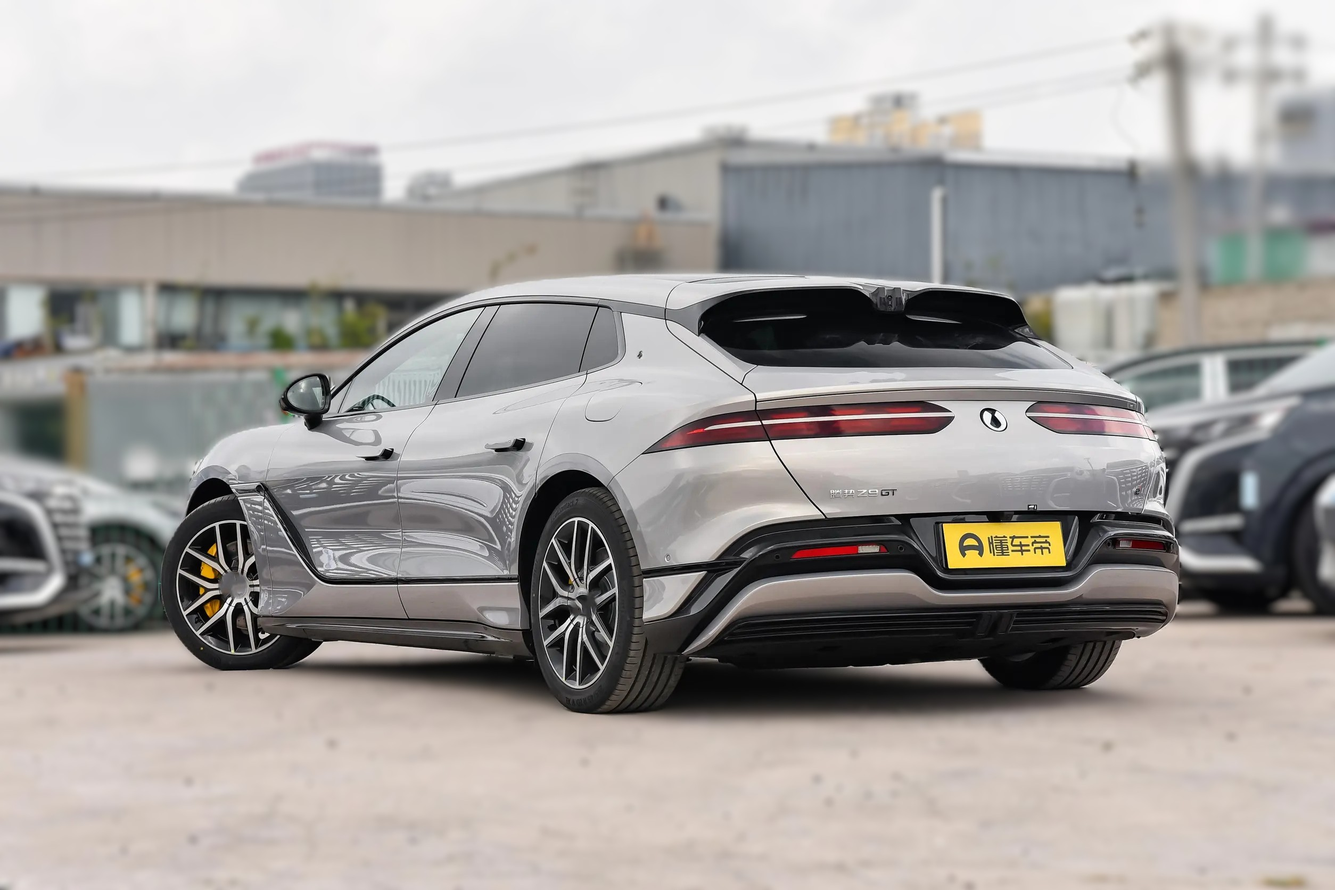DENZA: (983, 410, 1005, 430)
